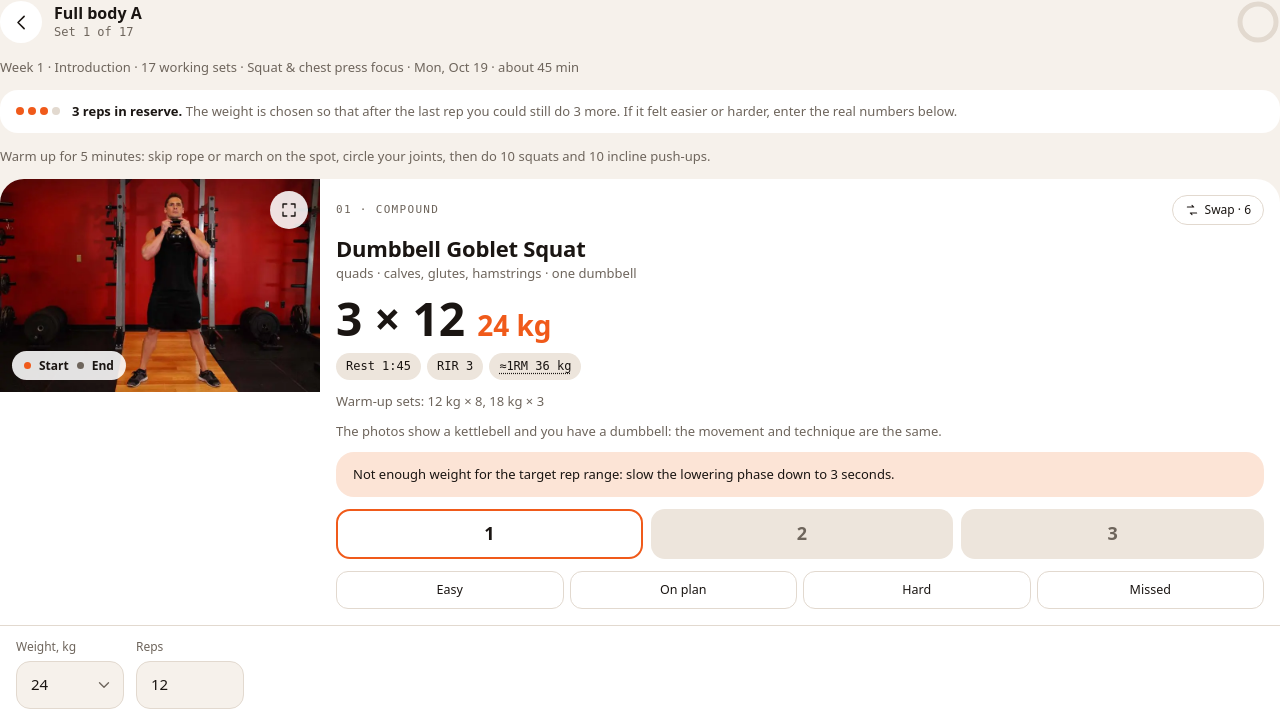
SessionScreen: exercise card › opens the photos full screen and closes them again
Click the button with aria-label "Open the photos of “Dumbbell Goblet Squat” full screen" at (160, 286), box [0, 179, 320, 392]
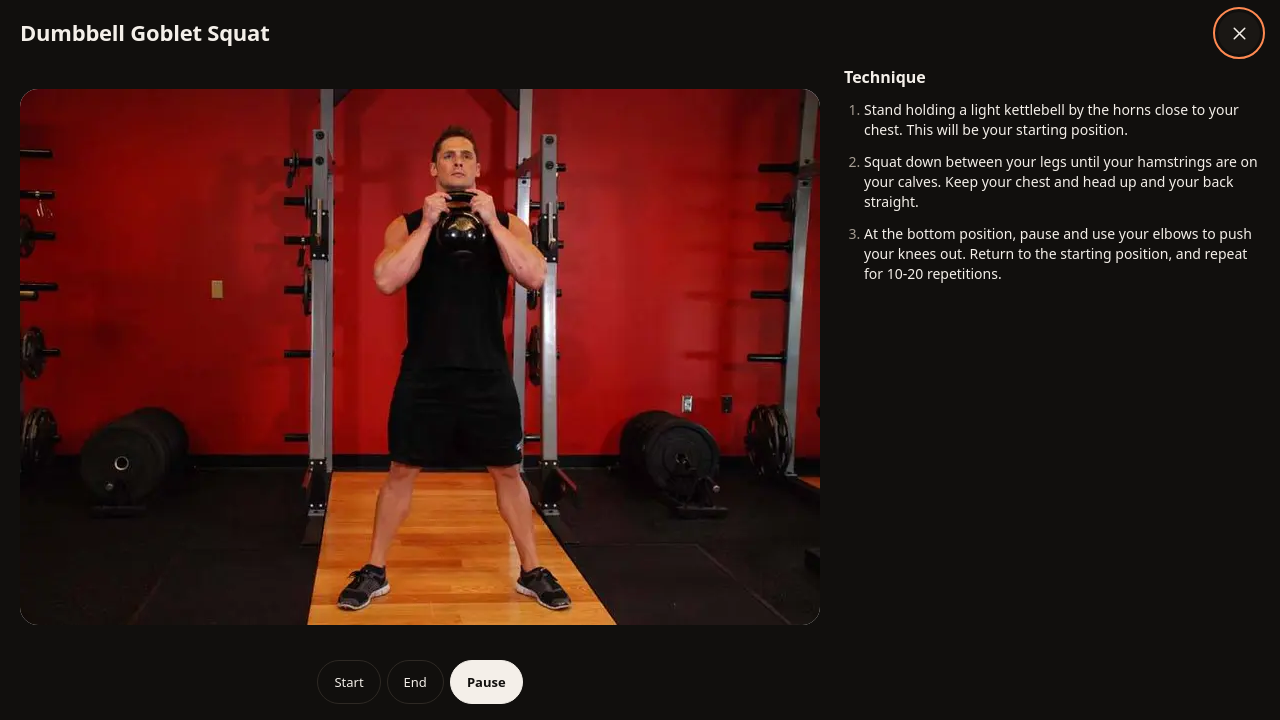
Click the button "End" at (415, 682), box [387, 660, 444, 704]
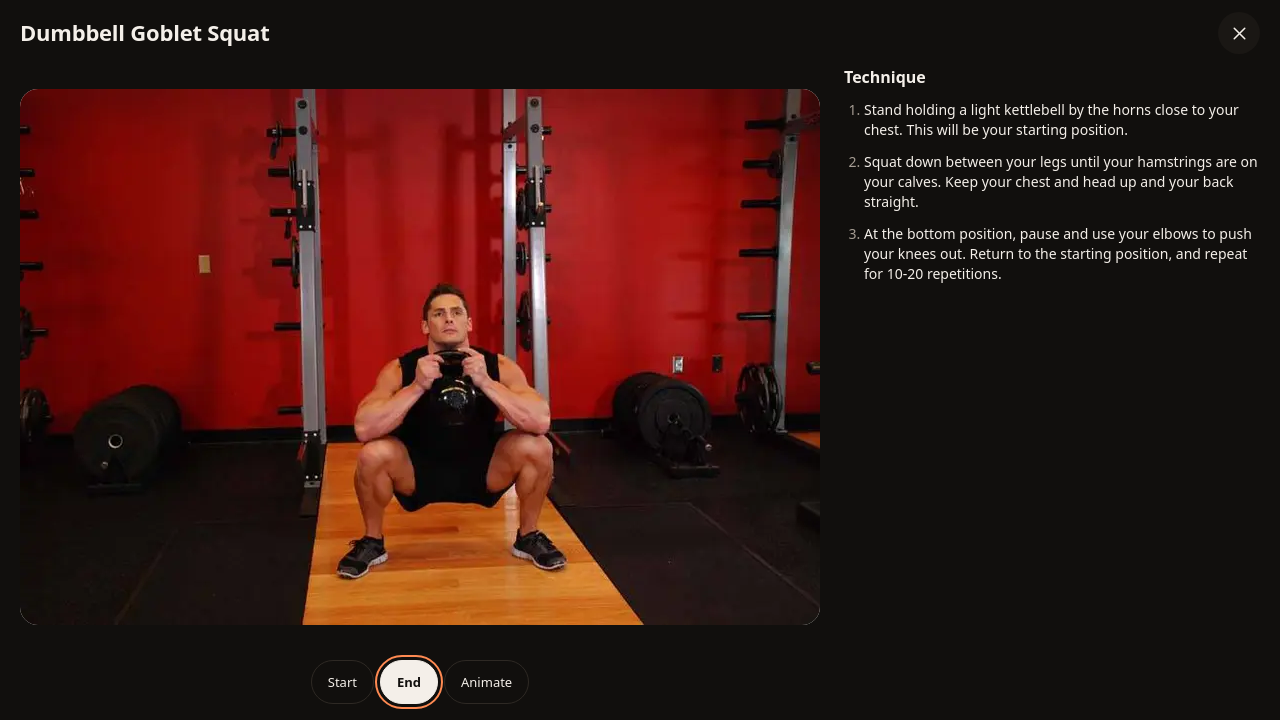
Result: the picture named "End of the movement" has attribute src="/exercises/Goblet_Squat/1.webp" at [20, 89, 820, 625]
Result: the button "End" is pressed at [380, 660, 438, 704]
Result: the button "Animate" is not pressed at [444, 660, 529, 704]
Press Arrowleft
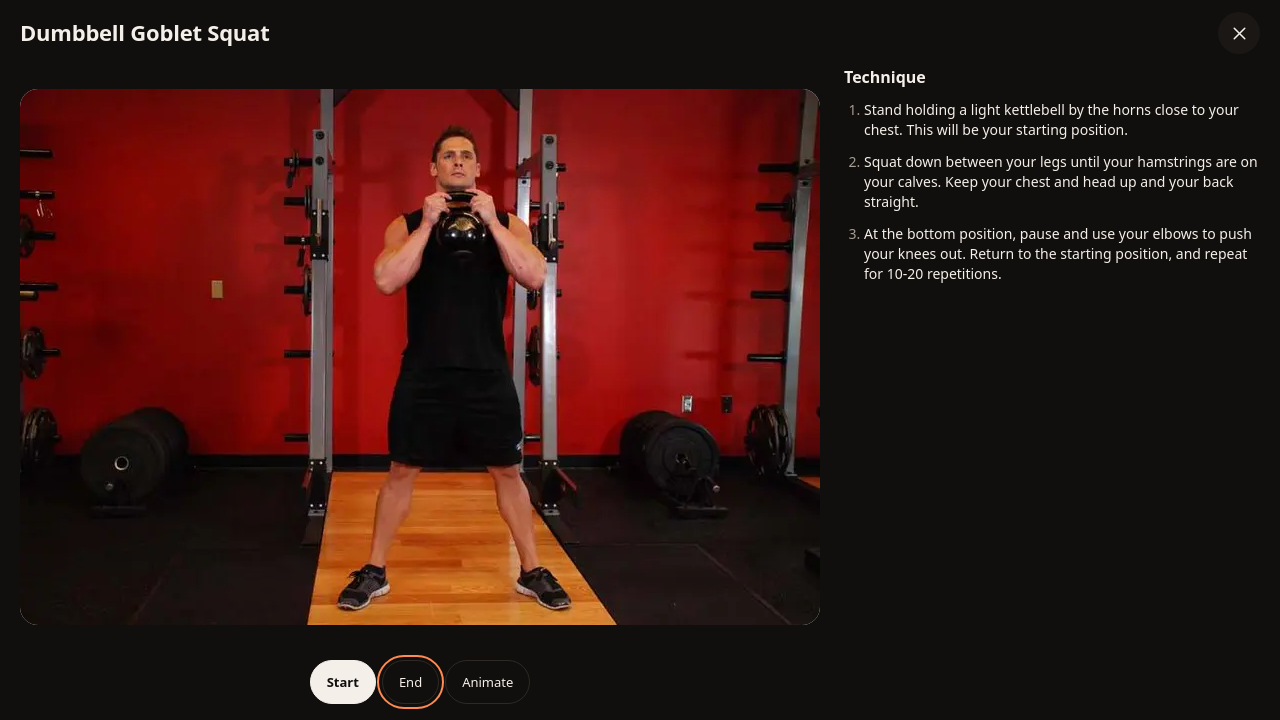
Result: the picture named "Start of the movement" is shown at [20, 89, 820, 625]
Press Escape
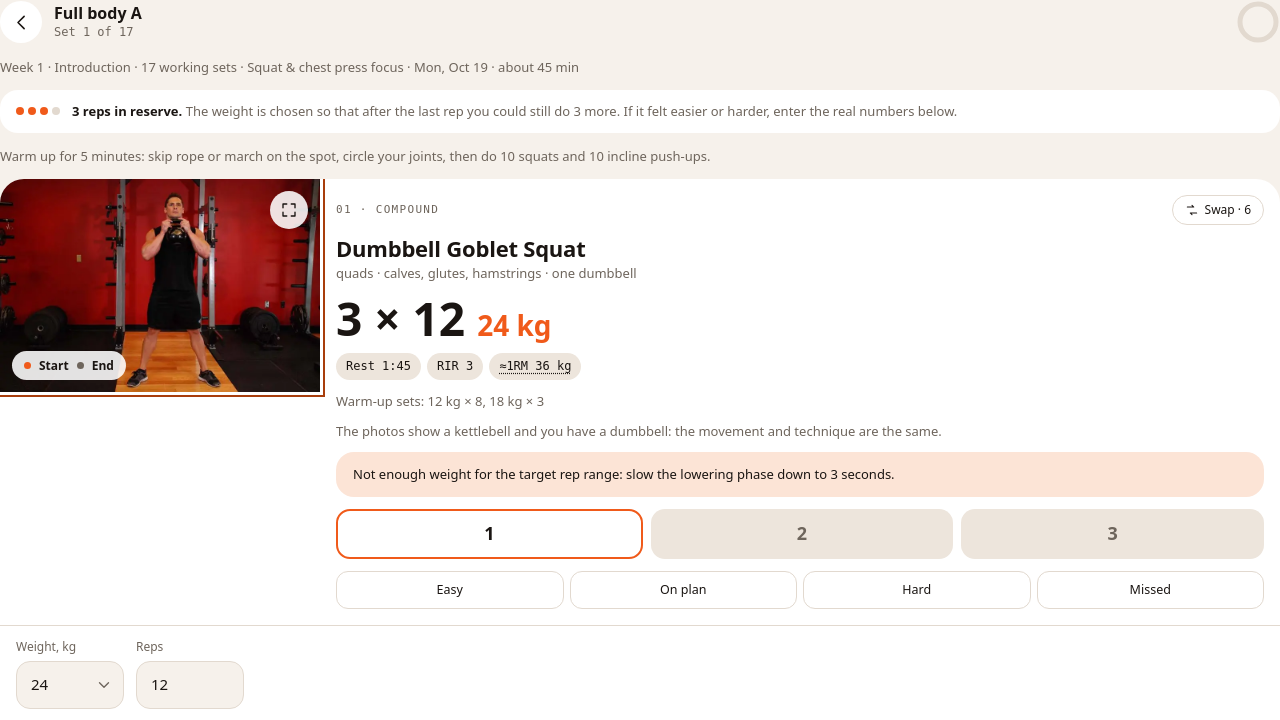
Result: the dialog is gone
